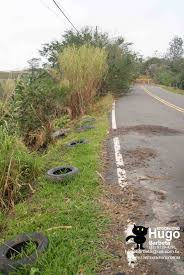tire: (1, 232, 51, 274), (45, 165, 80, 182), (62, 138, 94, 152)
